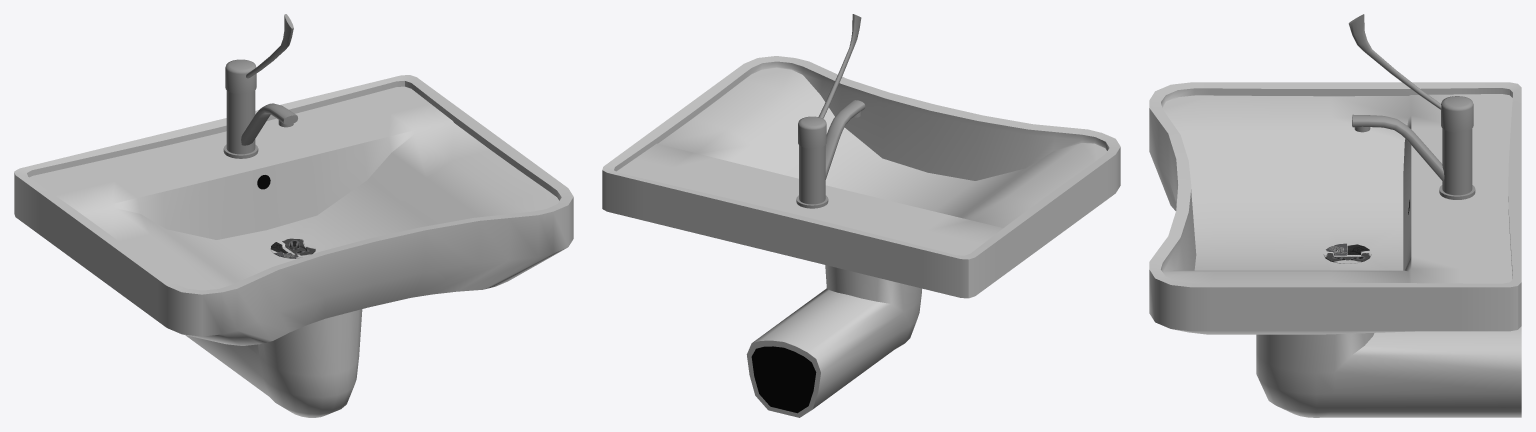
Rendered from ergonomic-washbasin.obj.
3 views of the same model, side by side, from view 1: azimuth 30°, elevation 25°; view 2: azimuth 150°, elevation 25°; view 3: azimuth 270°, elevation 25° (orthographic). The views are drawn at different scales.
Parts seen in each view (by area): view 1: Washbasin, Pipe, Cylinder, Tap; view 2: Washbasin, Pipe, Cylinder; view 3: Washbasin, Pipe, Cylinder, Tap.
Part boxes in pixels (x1,y1,x2,y2): Washbasin: [14, 75, 573, 345]; Pipe: [185, 309, 362, 417]; Cylinder: [223, 14, 297, 158]; Tap: [270, 238, 315, 258]; Washbasin: [602, 56, 1120, 298]; Pipe: [746, 265, 921, 417]; Cylinder: [796, 14, 865, 208]; Washbasin: [1149, 82, 1521, 334]; Pipe: [1256, 326, 1521, 417]; Cylinder: [1348, 14, 1475, 199]; Tap: [1323, 243, 1371, 263].
Size of the model in its own units: 60 by 53.82 by 46.
